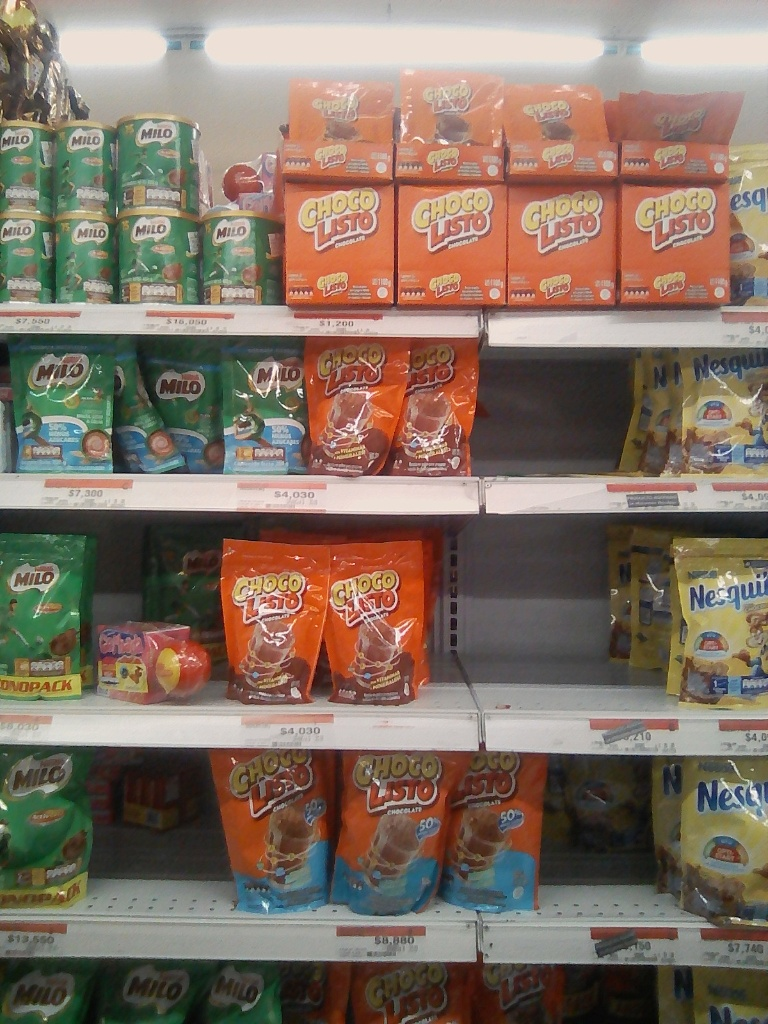COL0170103DYP20000: (219, 533, 319, 706)
COL0170103SOB02000: (289, 72, 396, 134)
COL0170203DYP25000: (2, 531, 94, 699)
COL0170203DYP50000: (2, 747, 89, 911)
COL0170203LAT20000: (1, 118, 49, 210)
COL0170203LAT40000: (118, 113, 202, 220)
COL0170205DYP20000: (1, 332, 108, 477)
COL0170303DYP20000: (682, 757, 768, 926)
COL0170306DYP20000: (668, 533, 768, 704)
